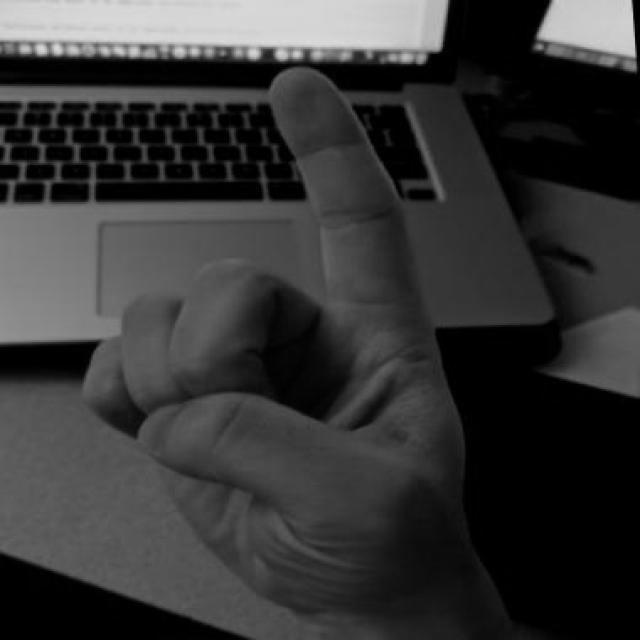D: (47, 41, 492, 639)
